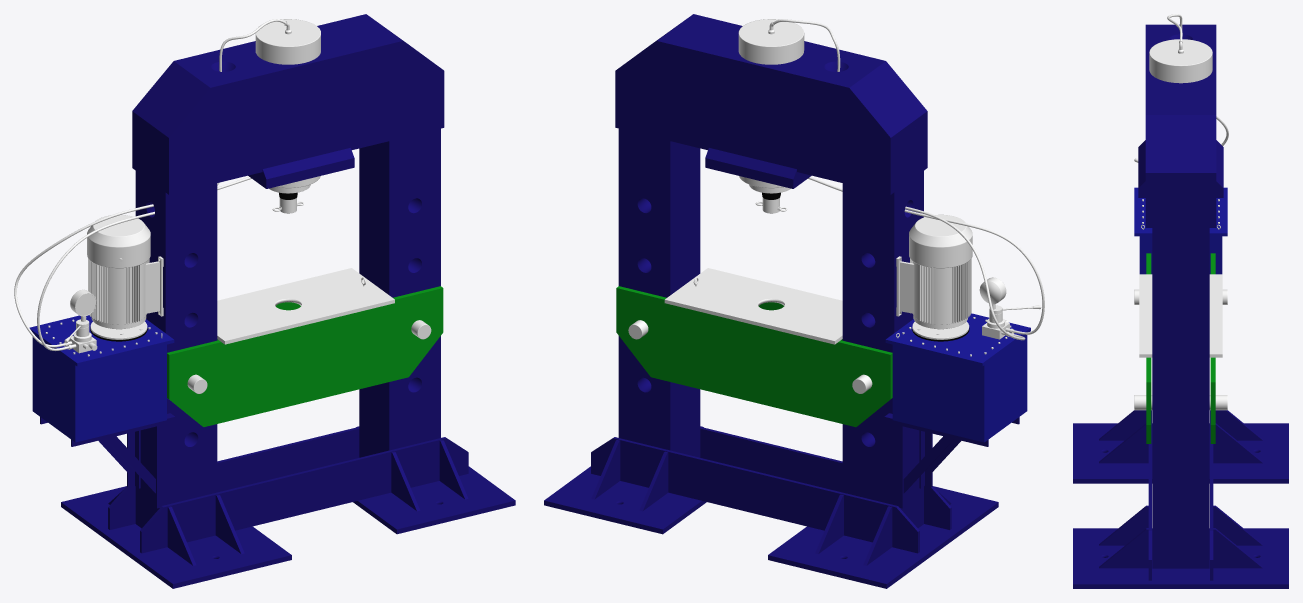
File: electric-hydro-press.glb
3 renders of one model, left to right at view 1: azimuth 30°, elevation 25°; view 2: azimuth 150°, elevation 25°; view 3: azimuth 270°, elevation 25°, orthographic. The views are drawn at different scales.
Visible parts, largest first — view 1: Object_3, Object_8, Object_5, Object_4, Object_7, Object_9, Object_6; view 2: Object_3, Object_8, Object_5, Object_4, Object_9, Object_7, Object_6; view 3: Object_3, Object_5, Object_4, Object_8.
Part boxes in pixels (x1,y1,x2,y2): Object_3: (40,14,515,588); Object_8: (167,286,443,426); Object_5: (87,19,431,393); Object_4: (29,315,174,442); Object_7: (37,19,286,350); Object_9: (64,289,142,353); Object_6: (14,177,251,347); Object_3: (544,14,1019,588); Object_8: (616,286,892,427); Object_5: (628,19,972,393); Object_4: (885,313,1030,442); Object_9: (917,277,1041,339); Object_7: (773,19,1044,334); Object_6: (808,177,1025,340); Object_3: (1073,24,1288,588); Object_5: (1134,39,1227,410); Object_4: (1134,187,1227,274); Object_8: (1146,253,1215,443).
Bounding box in the file's own units: 7.29 × 7.89 × 3.27.
